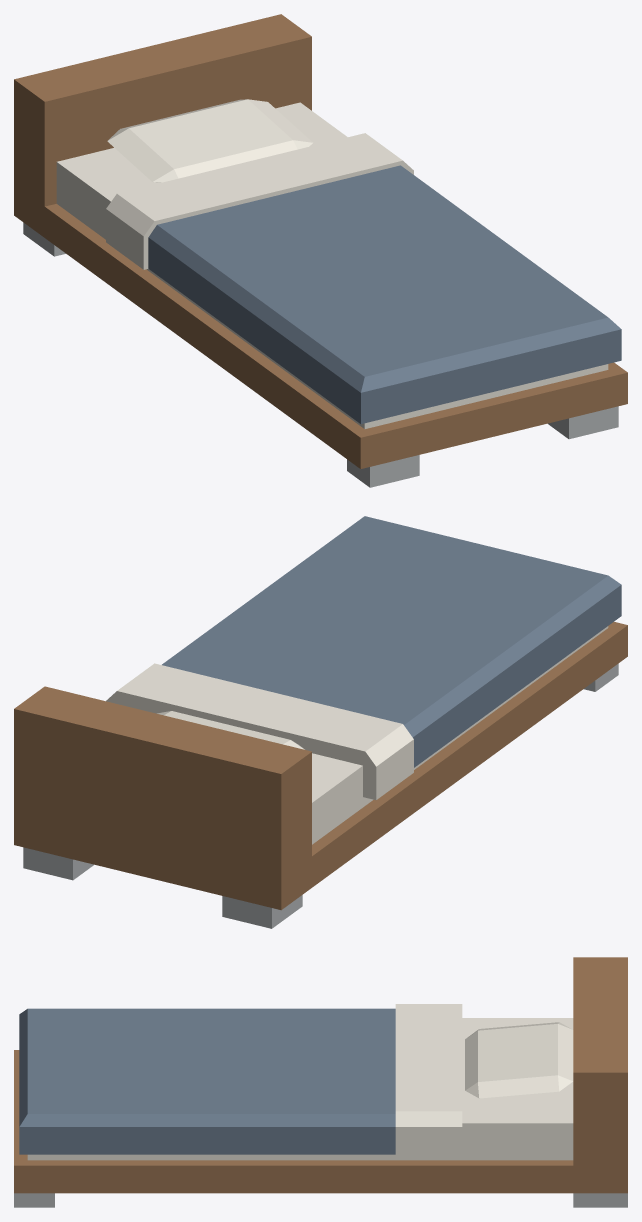
The model's file is bed_single.glb.
3 views of the same model, one above another, from view 1: azimuth 30°, elevation 25°; view 2: azimuth 150°, elevation 25°; view 3: azimuth 270°, elevation 25° (orthographic). The views are drawn at different scales.
Visible parts, largest first — view 1: bed_single_4, bed_single_1, bed_single_5, bed_single_3, bed_single_0, bed_single_2; view 2: bed_single_1, bed_single_4, bed_single_5, bed_single_0, bed_single_2, bed_single_3; view 3: bed_single_4, bed_single_1, bed_single_0, bed_single_5, bed_single_3, bed_single_2.
Boxes of the visible parts, box(x1,y1,x2,y2) form: bed_single_4: box(148, 165, 621, 423); bed_single_1: box(14, 14, 627, 468); bed_single_5: box(106, 133, 413, 269); bed_single_3: box(107, 99, 312, 182); bed_single_0: box(56, 102, 608, 428); bed_single_2: box(23, 222, 618, 487); bed_single_1: box(14, 622, 627, 910); bed_single_4: box(162, 516, 621, 767); bed_single_5: box(106, 663, 413, 799); bed_single_0: box(312, 626, 608, 844); bed_single_2: box(23, 663, 618, 928); bed_single_3: box(157, 711, 304, 749); bed_single_4: box(19, 1008, 395, 1154); bed_single_1: box(14, 957, 627, 1193); bed_single_0: box(27, 1018, 573, 1160); bed_single_5: box(395, 1004, 462, 1156); bed_single_3: box(465, 1022, 573, 1098); bed_single_2: box(14, 1193, 627, 1207).
Bounding box in the file's own units: 0.9 × 0.5 × 2.
